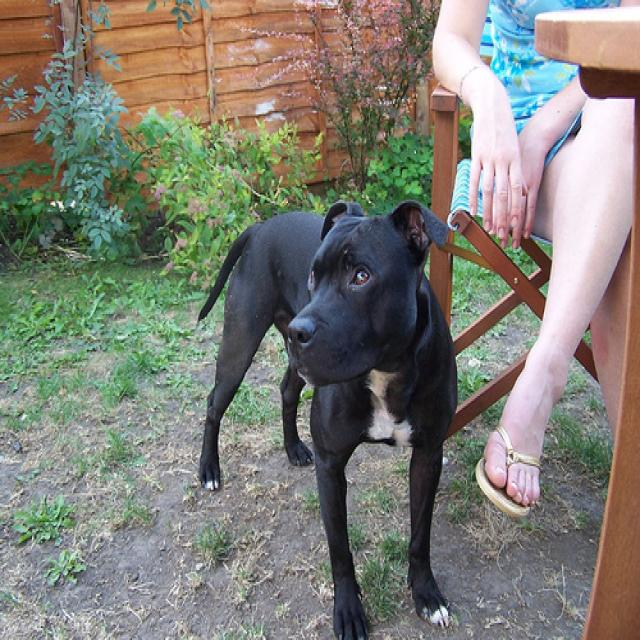dog-staffordshire_bull_terrier: (192, 189, 463, 637)
